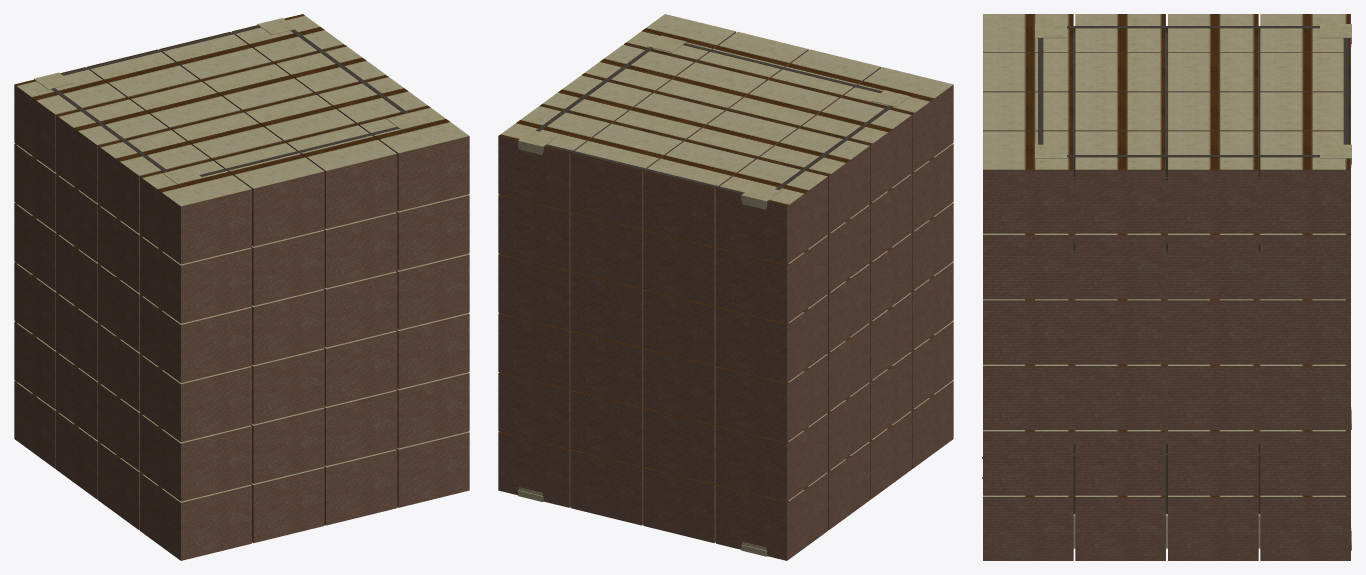
File: Building_Small_1_destructible.gltf
3 views of the same model, side by side, from view 1: azimuth 30°, elevation 25°; view 2: azimuth 150°, elevation 25°; view 3: azimuth 270°, elevation 25° (orthographic). The views are drawn at different scales.
Parts seen in each view (by area): view 1: block_f5_r3_c0, block_f5_r3_c2, block_f5_r3_c1, block_f5_r3_c3, block_f2_r3_c0, block_f0_r3_c0, block_f4_r3_c0, block_f1_r3_c0, block_f3_r3_c0, block_f5_r0_c0, block_f5_r2_c0, block_f5_r1_c0 (+39 smaller); view 2: block_f5_r0_c0, block_f5_r0_c2, block_f5_r0_c3, block_f5_r0_c1, block_f0_r0_c0, block_f2_r0_c0, block_f1_r0_c0, block_f4_r0_c0, block_f3_r0_c0, block_f5_r2_c0, block_f5_r1_c0, block_f5_r3_c0 (+39 smaller); view 3: block_f5_r2_c3, block_f5_r1_c3, block_f5_r0_c3, block_f5_r3_c3, block_f4_r2_c3, block_f4_r0_c3, block_f0_r2_c3, block_f1_r0_c3, block_f0_r1_c3, block_f1_r2_c3, block_f2_r2_c3, block_f3_r0_c3 (+24 smaller).
Boxes of the visible parts, <box> form: block_f5_r3_c0: <box>140,159,251,264</box>; block_f5_r3_c2: <box>285,124,397,228</box>; block_f5_r3_c1: <box>212,141,324,246</box>; block_f5_r3_c3: <box>357,106,469,211</box>; block_f2_r3_c0: <box>140,354,251,442</box>; block_f0_r3_c0: <box>140,472,251,560</box>; block_f4_r3_c0: <box>140,235,251,323</box>; block_f1_r3_c0: <box>140,413,251,501</box>; block_f3_r3_c0: <box>140,295,251,382</box>; block_f5_r0_c0: <box>14,67,126,172</box>; block_f5_r2_c0: <box>98,128,210,233</box>; block_f5_r1_c0: <box>56,98,168,203</box>; block_f5_r0_c0: <box>716,159,827,264</box>; block_f5_r0_c2: <box>564,124,682,229</box>; block_f5_r0_c3: <box>498,106,610,211</box>; block_f5_r0_c1: <box>643,141,755,246</box>; block_f0_r0_c0: <box>716,472,827,560</box>; block_f2_r0_c0: <box>716,354,827,442</box>; block_f1_r0_c0: <box>716,413,827,501</box>; block_f4_r0_c0: <box>716,235,827,323</box>; block_f3_r0_c0: <box>716,295,827,382</box>; block_f5_r2_c0: <box>799,98,911,203</box>; block_f5_r1_c0: <box>757,128,869,233</box>; block_f5_r3_c0: <box>841,67,953,172</box>; block_f5_r2_c3: <box>1067,110,1190,233</box>; block_f5_r1_c3: <box>1148,124,1260,233</box>; block_f5_r0_c3: <box>1244,131,1351,233</box>; block_f5_r3_c3: <box>983,131,1073,233</box>; block_f4_r2_c3: <box>1073,211,1167,299</box>; block_f4_r0_c3: <box>1258,199,1350,299</box>; block_f0_r2_c3: <box>1073,469,1167,560</box>; block_f1_r0_c3: <box>1258,406,1350,495</box>; block_f0_r1_c3: <box>1166,460,1260,560</box>; block_f1_r2_c3: <box>1073,419,1167,508</box>; block_f2_r2_c3: <box>1073,350,1167,433</box>; block_f3_r0_c3: <box>1258,268,1350,364</box>.
Size of the model in its own units: 8.46 by 9.96 by 8.5.
13 materials, 12 textured.
